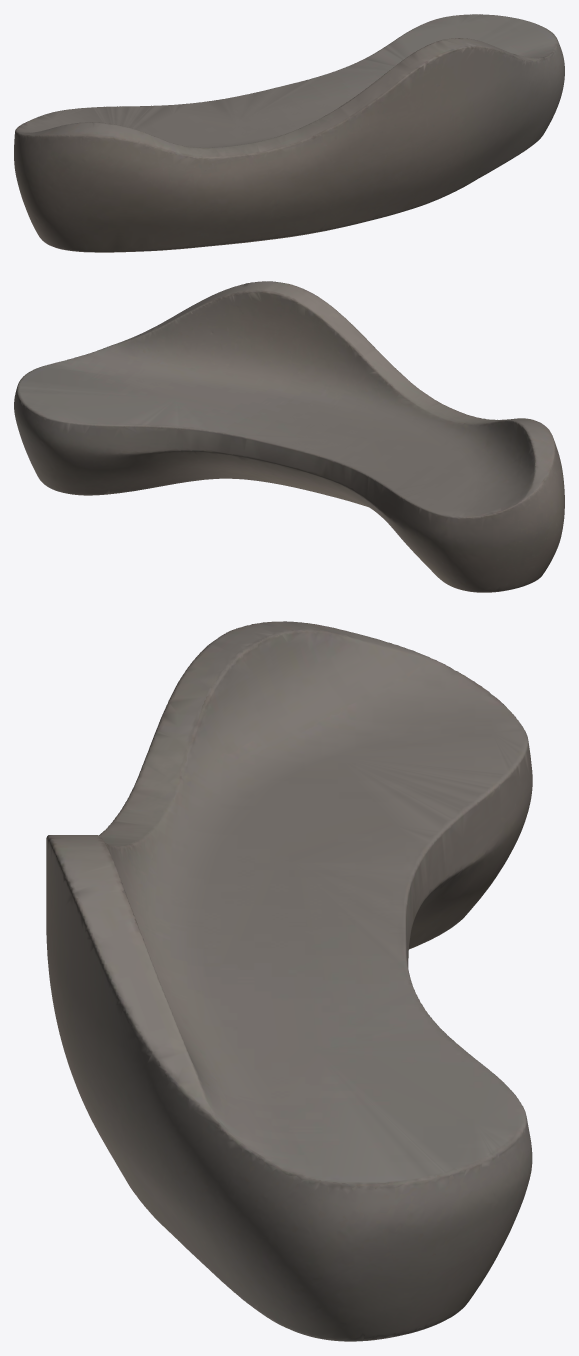
Rendered from item-9.glb.
The picture shows the model from 3 angles, top to bottom: view 1: azimuth 30°, elevation 25°; view 2: azimuth 150°, elevation 25°; view 3: azimuth 270°, elevation 25°; orthographic projection. The views are drawn at different scales.
Parts seen in each view (by area): view 1: geometry_0; view 2: geometry_0; view 3: geometry_0.
Boxes of the visible parts, x1,y1,x2,y2 form: geometry_0: [14, 14, 564, 252]; geometry_0: [14, 281, 564, 592]; geometry_0: [46, 621, 532, 1341].
Bounding box in the file's own units: 1 × 0.3086 × 0.3968.
1 material, 1 textured.
